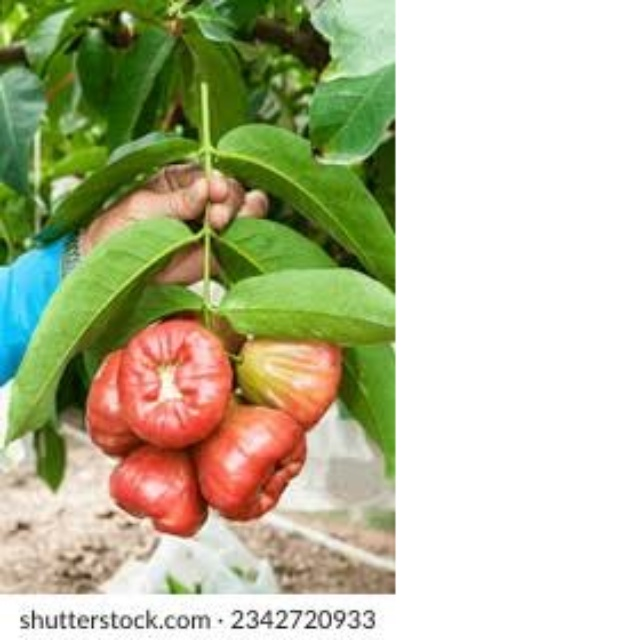xoai: (120, 319, 237, 450), (202, 398, 319, 524), (228, 328, 373, 420)
